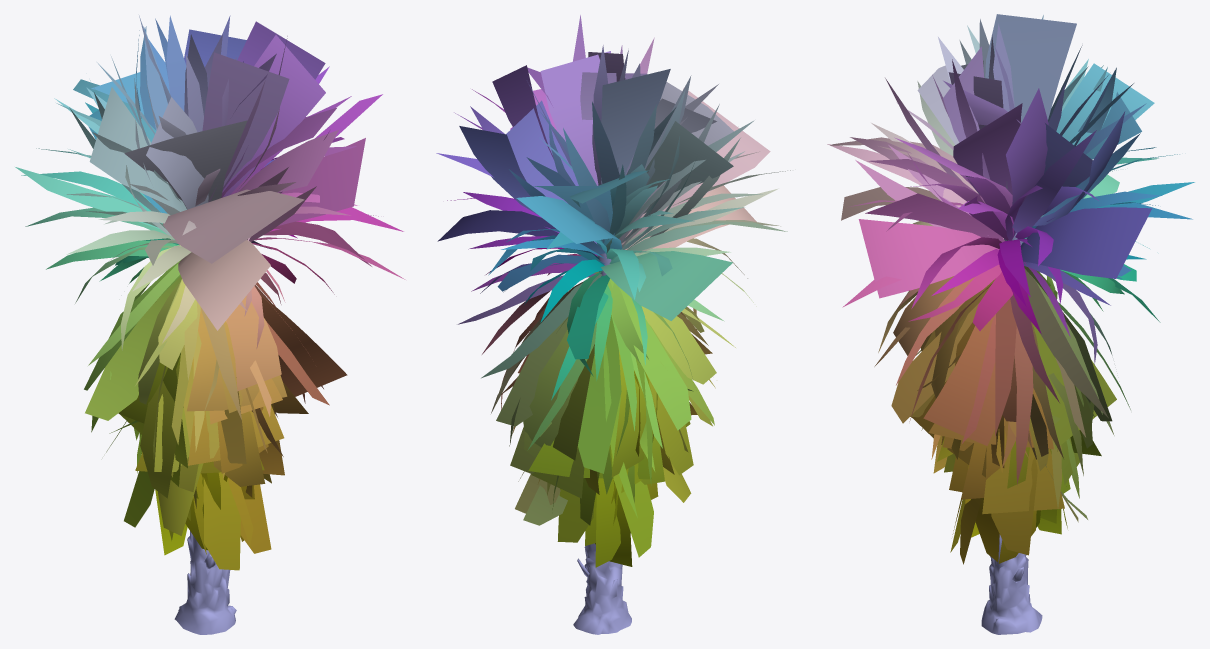
The picture shows the model from 3 angles, left to right: view 1: azimuth 30°, elevation 25°; view 2: azimuth 150°, elevation 25°; view 3: azimuth 270°, elevation 25°; orthographic projection. The views are drawn at different scales.
Parts seen in each view (by area): view 1: SM_BS_YuccaMA1_3m_HD; view 2: SM_BS_YuccaMA1_3m_HD; view 3: SM_BS_YuccaMA1_3m_HD.
Boxes of the visible parts, box(x1,y1,x2,y2) form: SM_BS_YuccaMA1_3m_HD: box(15, 15, 405, 634); SM_BS_YuccaMA1_3m_HD: box(436, 15, 790, 634); SM_BS_YuccaMA1_3m_HD: box(827, 14, 1194, 634).
Size of the model in its own units: 71.14 by 71.29 by 125.
